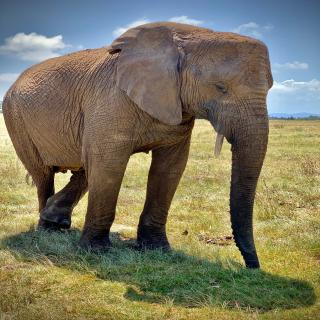Elephant: (0, 19, 298, 281)
